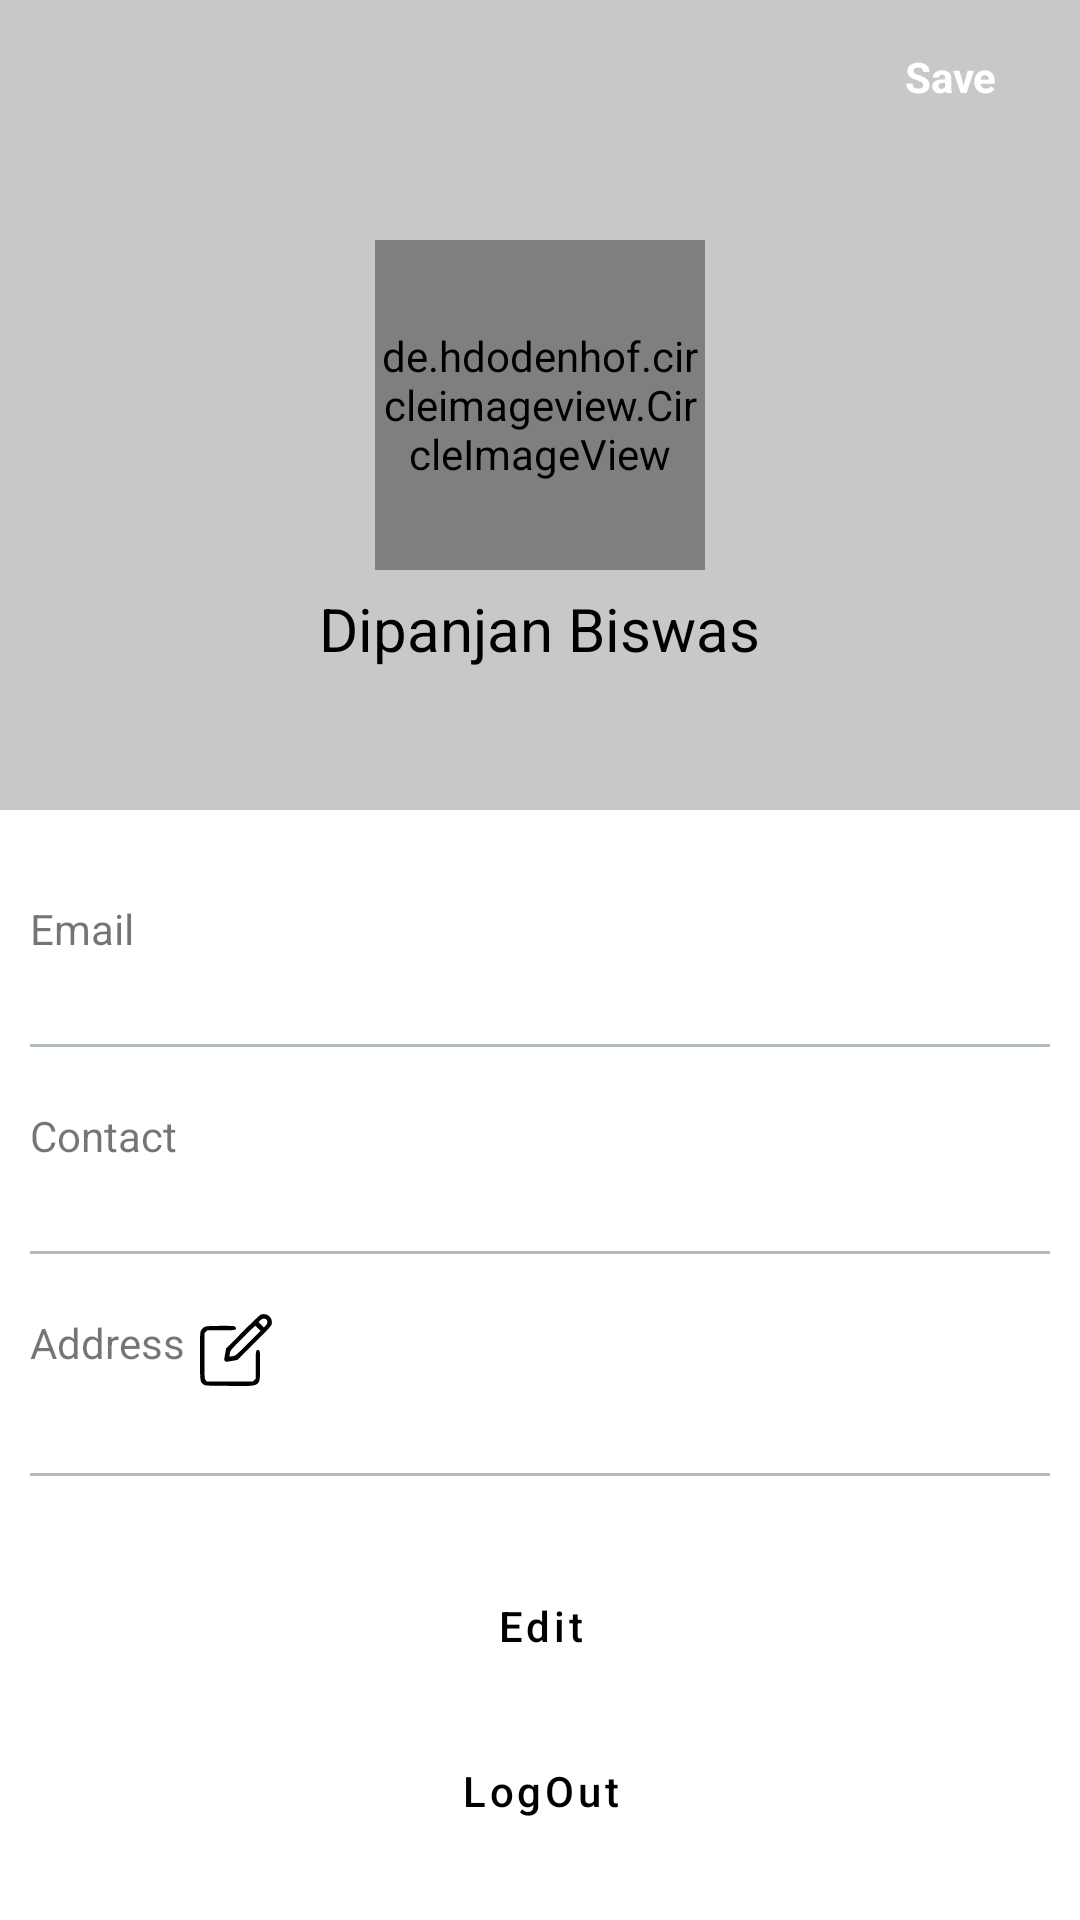

Point at icon controls on the screen. Image size 1080px×1920px, points as [x,y].
edit: [236,1350]
